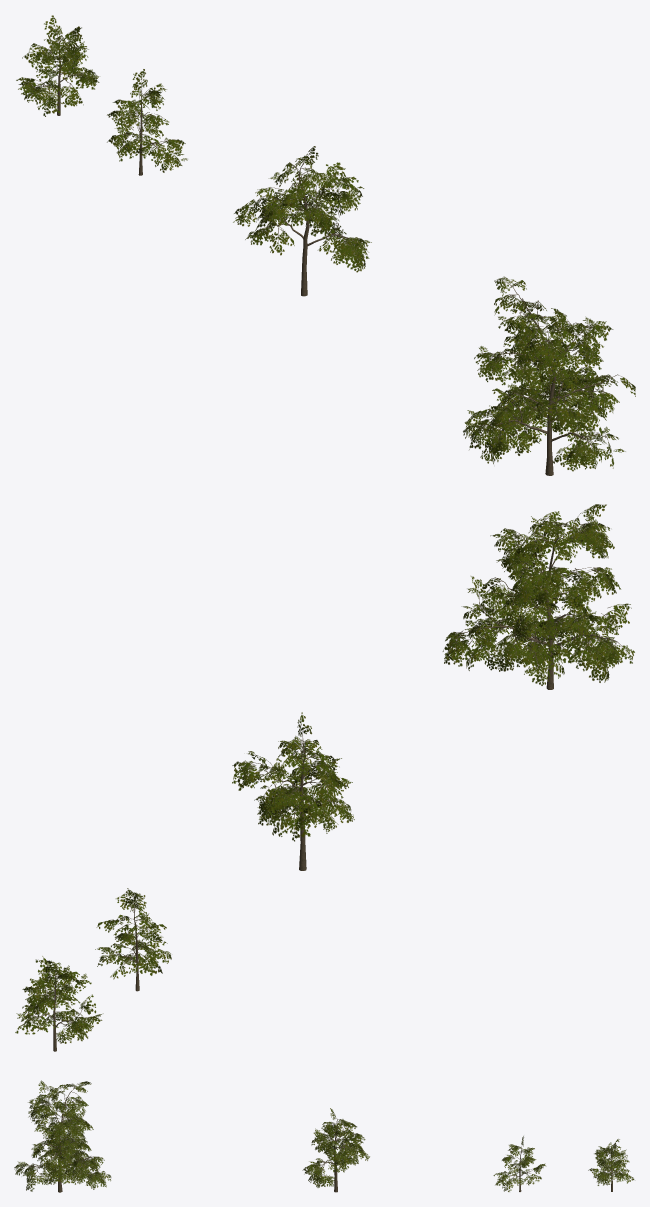
Rendered from maple_trees.glb.
The picture shows the model from 3 angles, top to bottom: view 1: azimuth 30°, elevation 25°; view 2: azimuth 150°, elevation 25°; view 3: azimuth 270°, elevation 25°; orthographic projection. The views are drawn at different scales.
Parts seen in each view (by area): view 1: Acer_medium_1_LOD1, Acer_medium_3_LOD1, Acer_small_2_LOD1, Acer_small_1_LOD1; view 2: Acer_medium_1_LOD1, Acer_medium_3_LOD1, Acer_small_2_LOD1, Acer_small_1_LOD1; view 3: Acer_medium_1_LOD1, Acer_medium_3_LOD1, Acer_small_2_LOD1, Acer_small_1_LOD1.
Part boxes in pixels (x1,y1,x2,y2): Acer_medium_1_LOD1: (463,276,635,475); Acer_medium_3_LOD1: (233,146,371,296); Acer_small_2_LOD1: (16,15,99,116); Acer_small_1_LOD1: (107,69,187,175); Acer_medium_1_LOD1: (442,504,634,689); Acer_medium_3_LOD1: (232,712,354,870); Acer_small_2_LOD1: (15,956,103,1051); Acer_small_1_LOD1: (95,888,171,991); Acer_medium_1_LOD1: (14,1080,111,1192); Acer_medium_3_LOD1: (302,1108,369,1192); Acer_small_2_LOD1: (588,1139,634,1191); Acer_small_1_LOD1: (493,1136,546,1191).
Size of the model in its own units: 11.3 by 12.41 by 67.61.
Materials: 2 (2 with a texture image).
